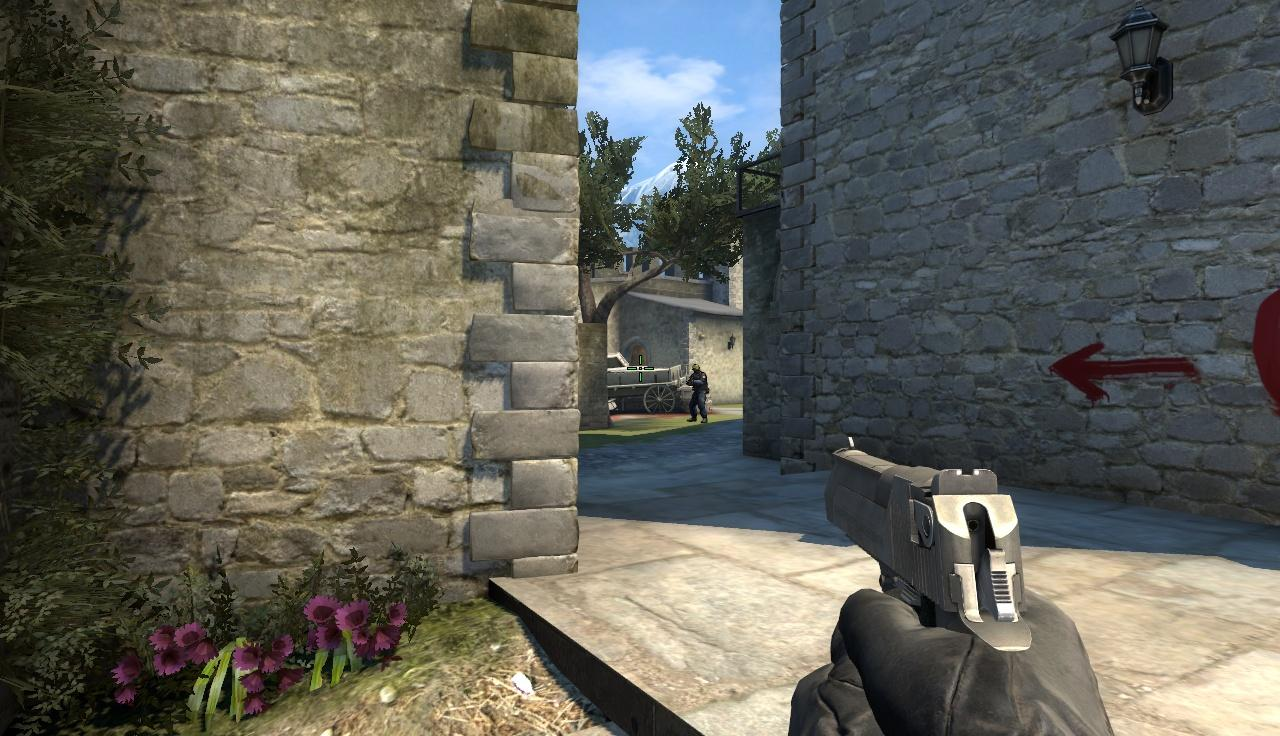ct: (688, 365, 708, 425)
cthead: (692, 364, 701, 375)
pistol: (815, 433, 1109, 733)
